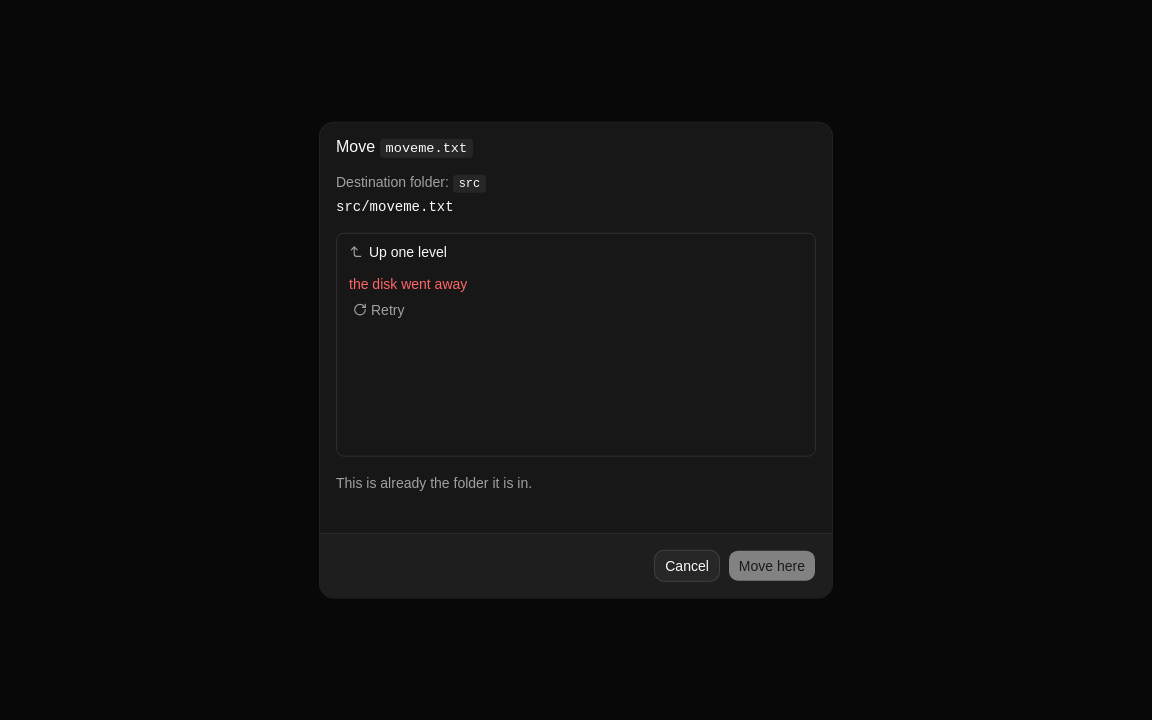
Test: MoveEntryDialog › says why a listing failed and lists the folder on retry
Expected: the text "the disk went away" is shown, [349, 273, 467, 293]
Step 1. Click the button "Retry" → (379, 309), box [349, 297, 408, 321]
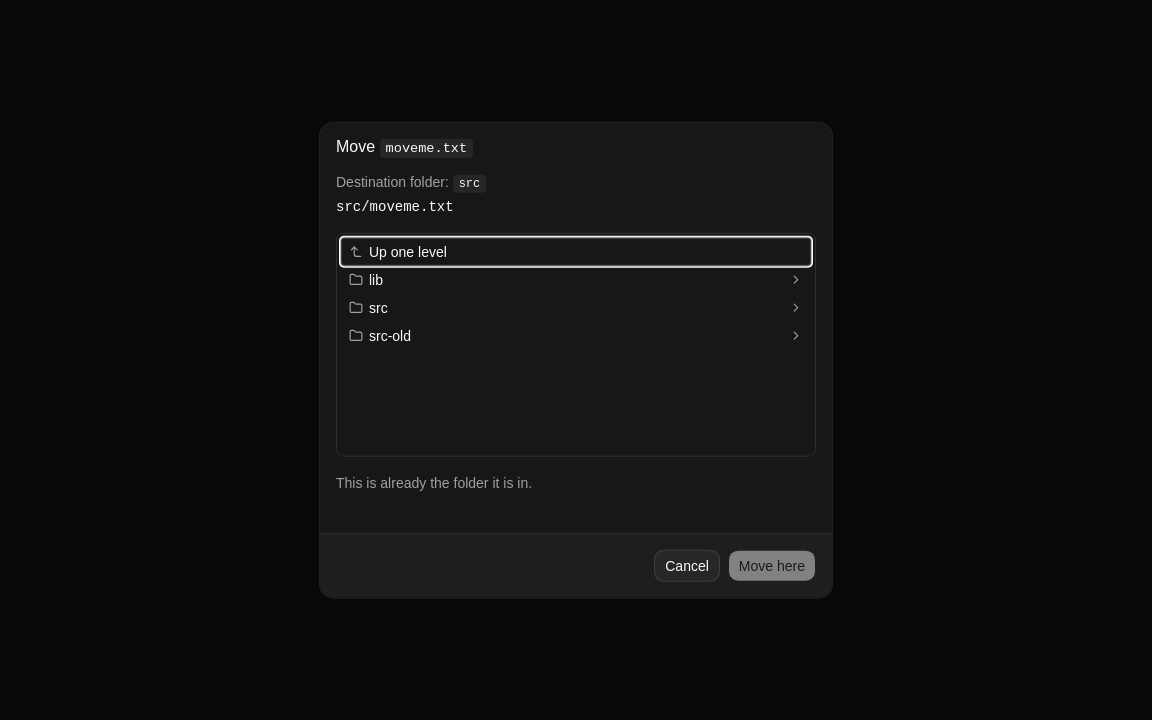
Expected: the button "src-old" is shown, [341, 321, 811, 349]
Expected: the text "the disk went away" is gone
